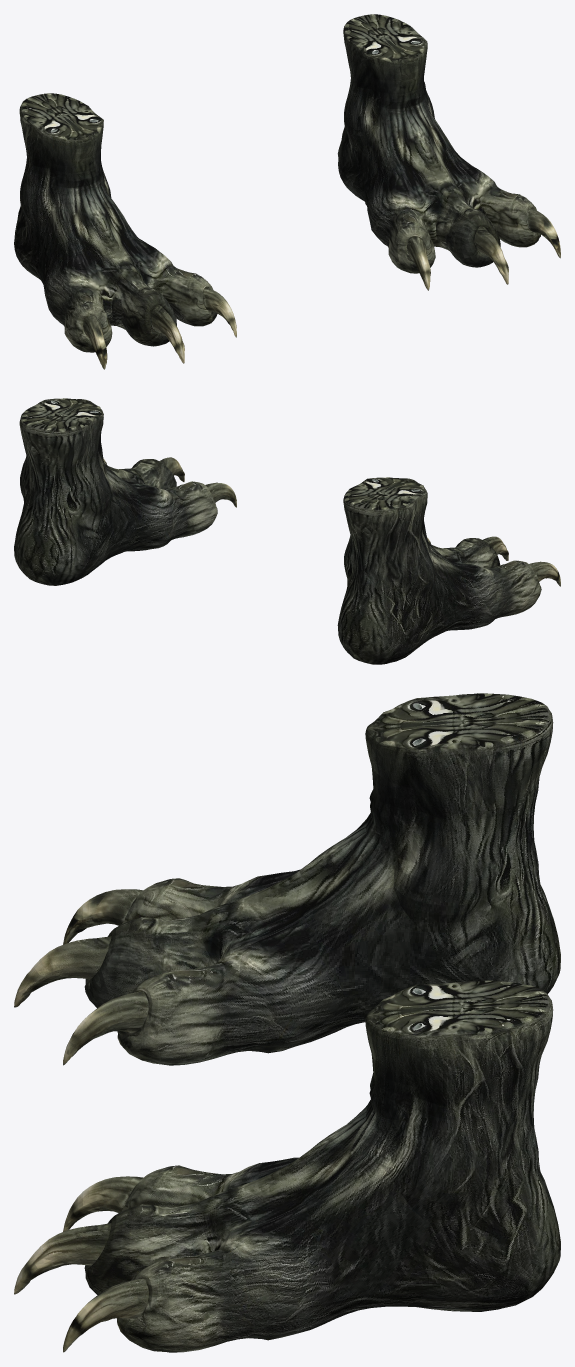
Rendered from ewm_beastfeet_furb.glb.
3 renders of one model, top to bottom at view 1: azimuth 30°, elevation 25°; view 2: azimuth 150°, elevation 25°; view 3: azimuth 270°, elevation 25°, orthographic. The views are drawn at different scales.
Parts seen in each view (by area): view 1: ewm_beastfeet_furb; view 2: ewm_beastfeet_furb; view 3: ewm_beastfeet_furb.
Boxes of the visible parts, x1,y1,x2,y2 form: ewm_beastfeet_furb: (14,14,560,369); ewm_beastfeet_furb: (14,398,560,664); ewm_beastfeet_furb: (14,693,560,1352).
Size of the model in its own units: 0.5874 by 0.2 by 0.3292.
1 material, 1 textured.
